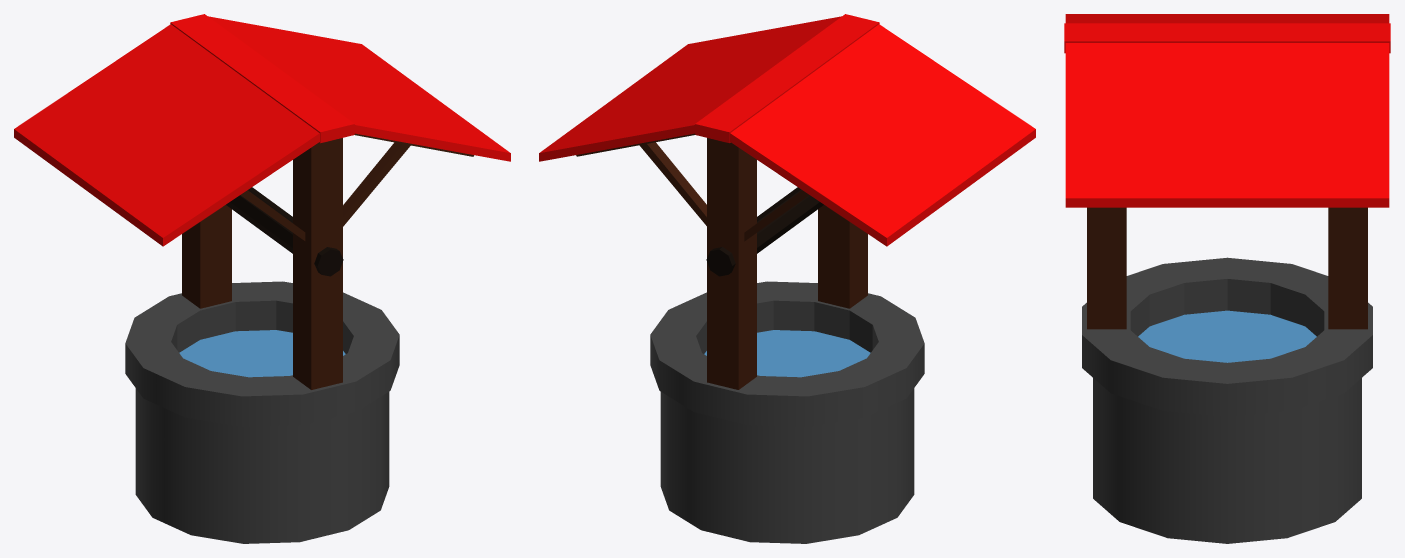
The model's file is Pozo.fbx.
3 views of the same model, side by side, from view 1: azimuth 30°, elevation 25°; view 2: azimuth 150°, elevation 25°; view 3: azimuth 270°, elevation 25° (orthographic). The views are drawn at different scales.
Parts seen in each view (by area): view 1: pCylinder3.003 (×7); view 2: pCylinder3.003 (×7); view 3: pCylinder3.003 (×6).
Boxes of the visible parts, bbox=[...] form: pCylinder3.003 (×7): bbox=[14, 14, 510, 543]; pCylinder3.003 (×7): bbox=[539, 14, 1035, 543]; pCylinder3.003 (×6): bbox=[1064, 14, 1390, 543].
Bounding box in the file's own units: 3.9 × 4.47 × 2.91.
